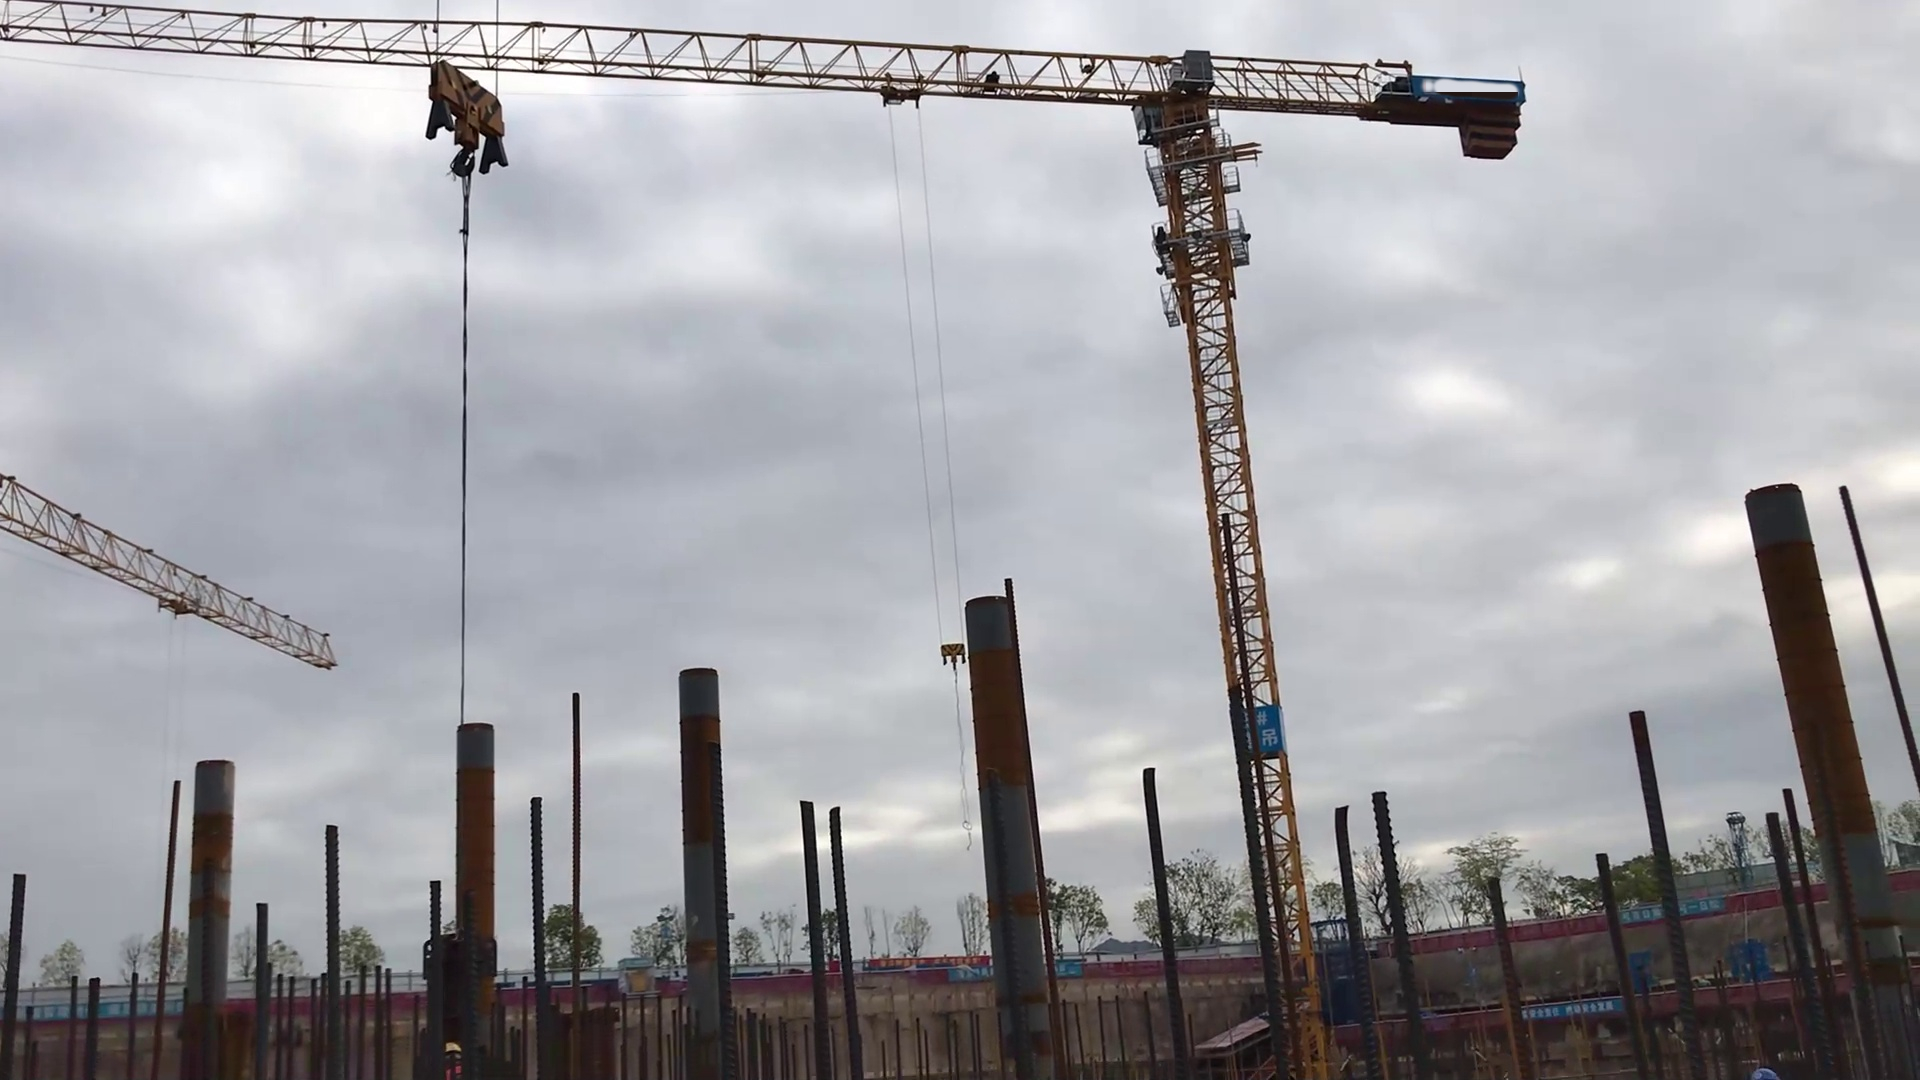fence: (1510, 899, 1613, 964), (1408, 916, 1498, 963), (1175, 942, 1262, 984), (1083, 943, 1162, 986), (731, 975, 814, 998)
hook: (418, 58, 510, 189), (938, 640, 969, 667)
slogan: (1617, 899, 1731, 930), (1522, 1001, 1627, 1030), (1253, 705, 1290, 756)
